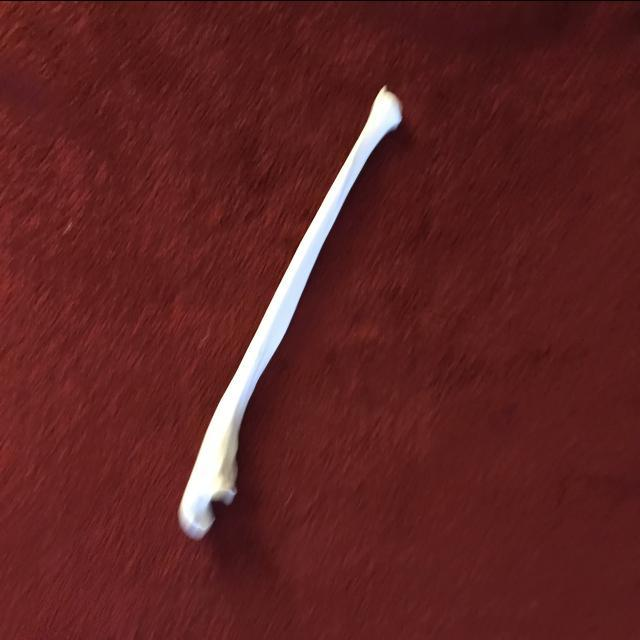bone: (174, 77, 404, 543)
